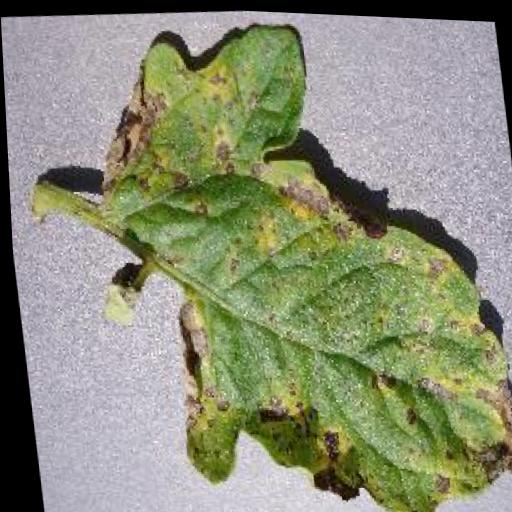Septoria: (79, 3, 512, 512)
